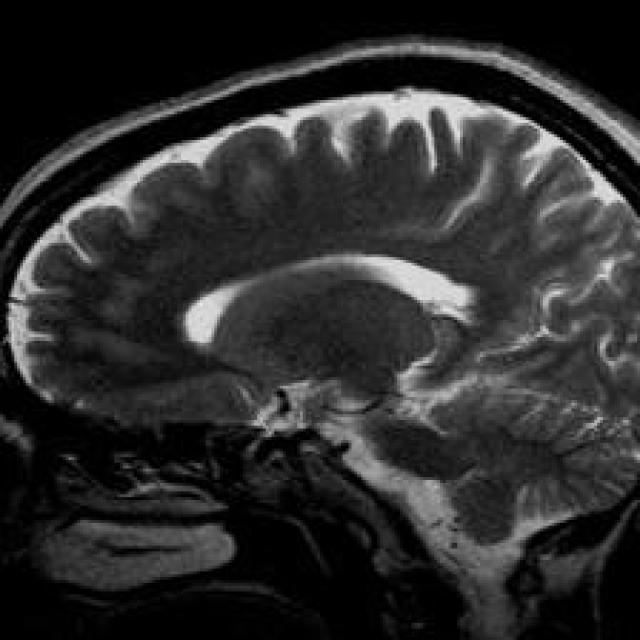no_tumor: (0, 43, 632, 636)
